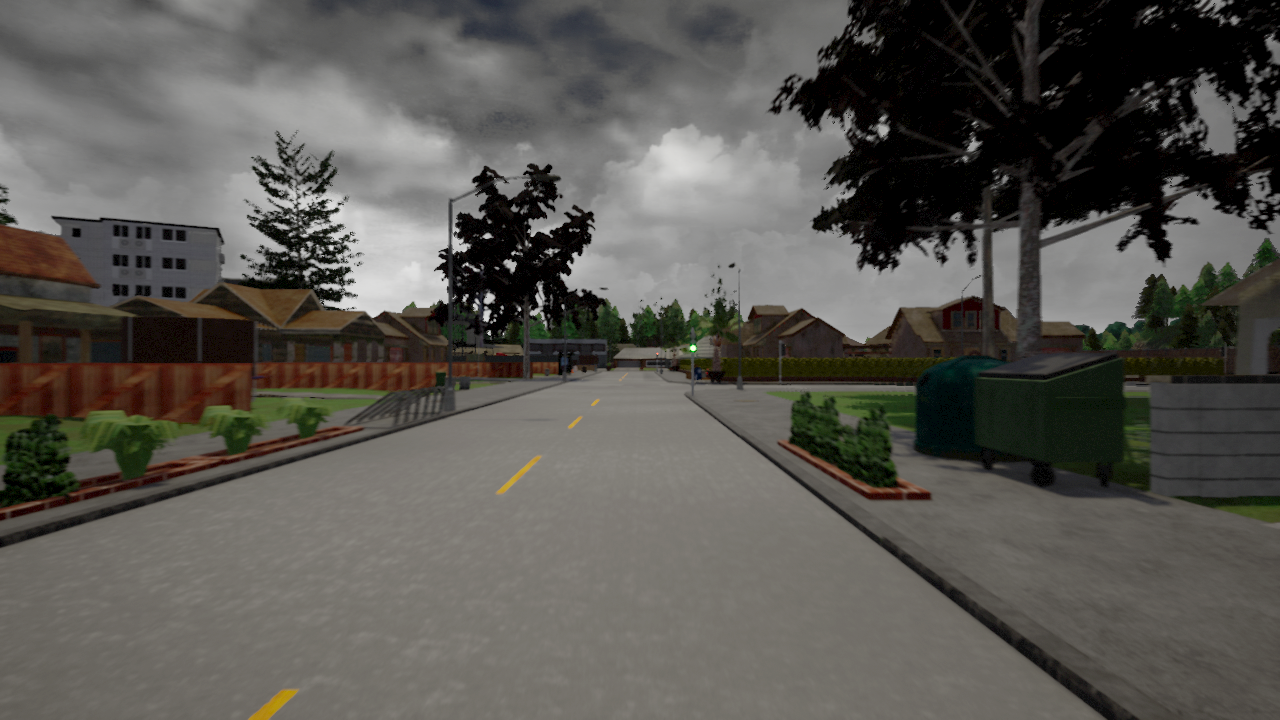green: (688, 331, 697, 353)
